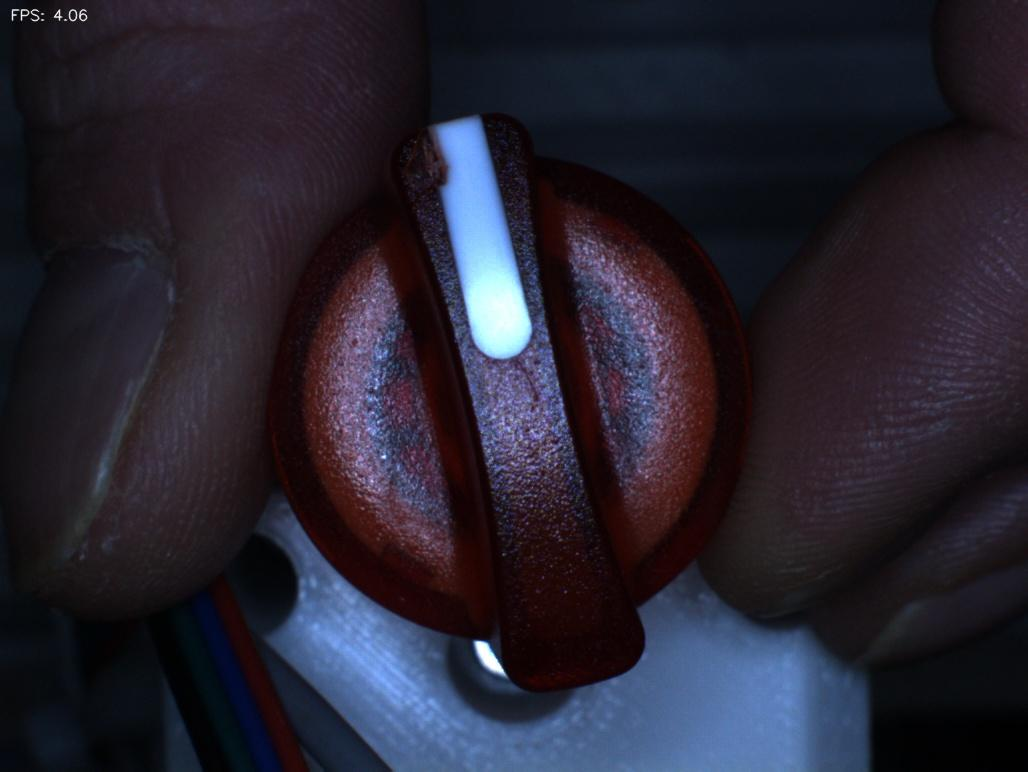Choc: (368, 108, 467, 215)
